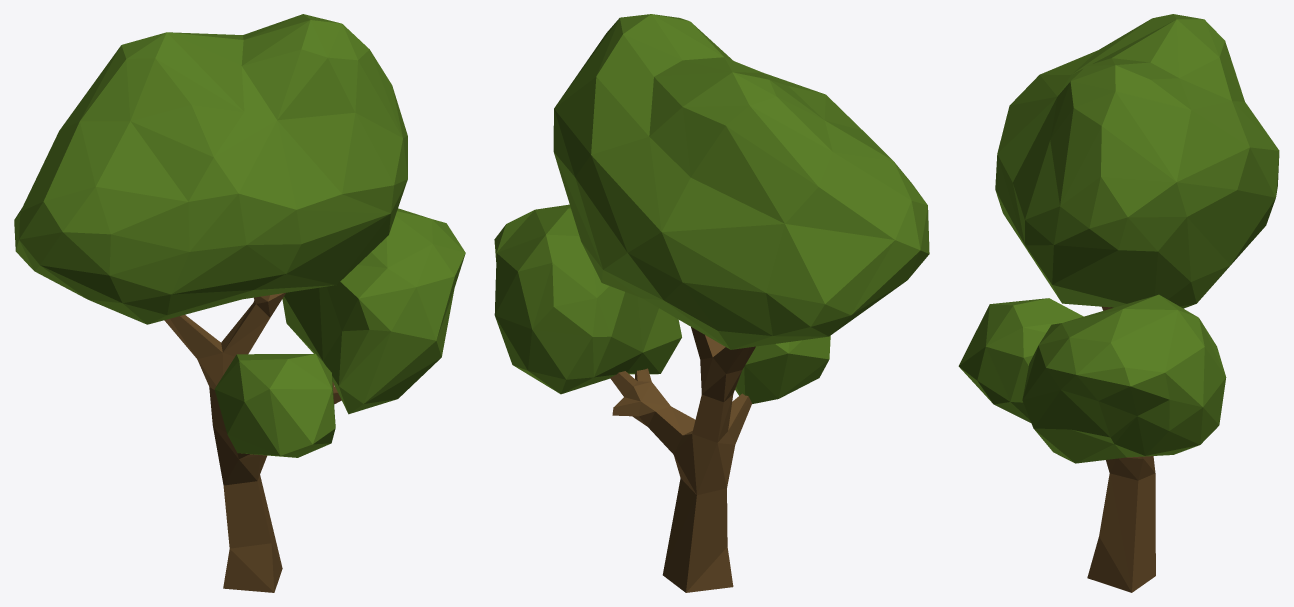
3 views of the same model, side by side, from view 1: azimuth 30°, elevation 25°; view 2: azimuth 150°, elevation 25°; view 3: azimuth 270°, elevation 25° (orthographic). The views are drawn at different scales.
Visible parts, largest first — view 1: Tree1_1; view 2: Tree1_1; view 3: Tree1_1.
Part boxes in pixels (box(x1,y1,x2,y2)): Tree1_1: box(14, 14, 465, 592); Tree1_1: box(494, 14, 929, 592); Tree1_1: box(958, 14, 1279, 592).
Bounding box in the file's own units: 6 × 7.34 × 3.97.
